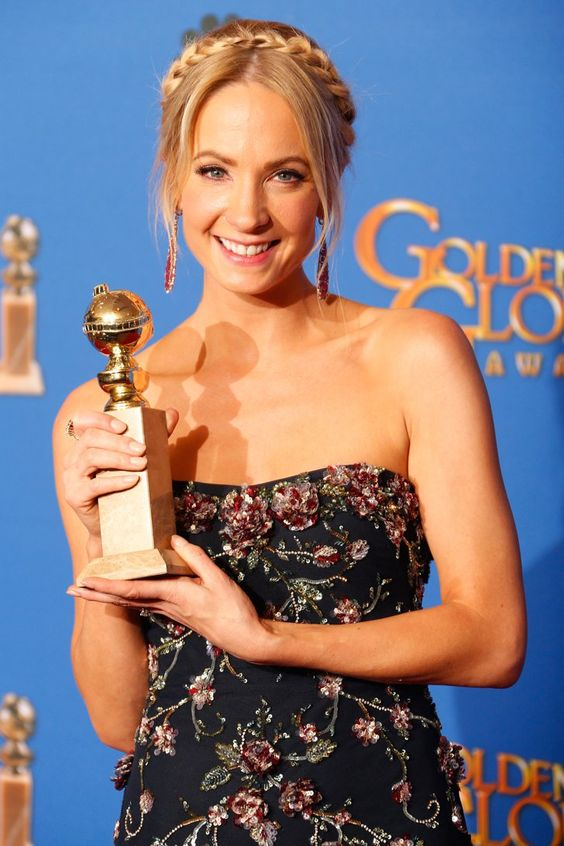hand: (77, 544, 268, 637)
